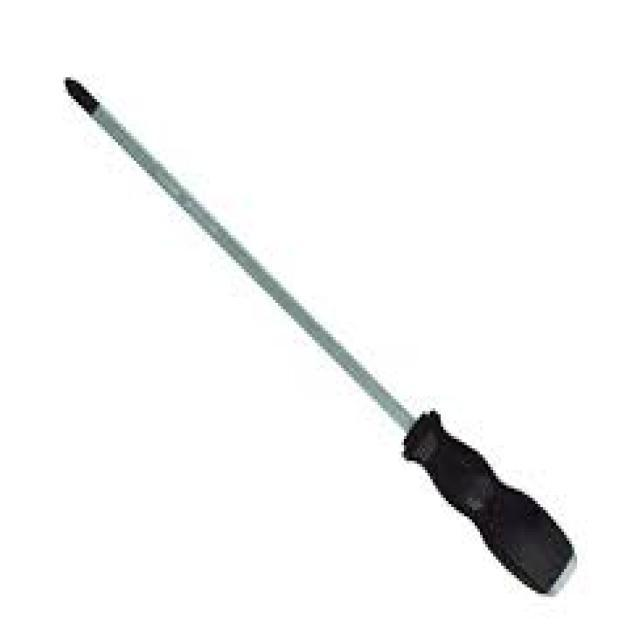screwdriver: (49, 71, 578, 600)
